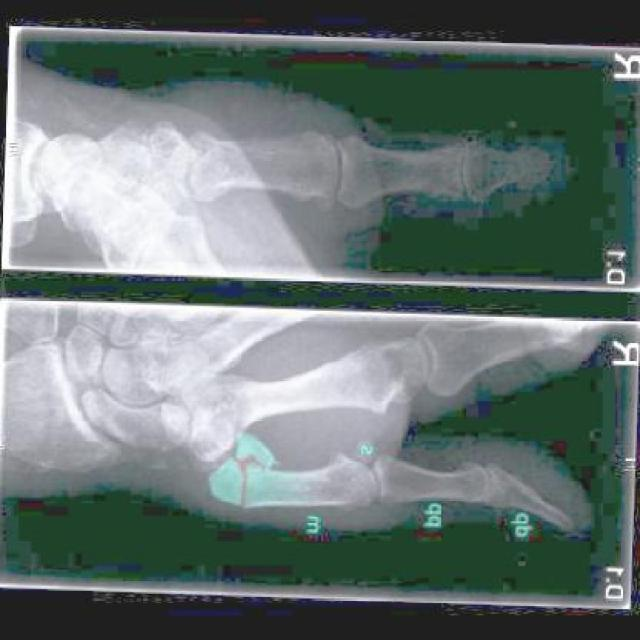Fracture: (214, 437, 294, 517)
